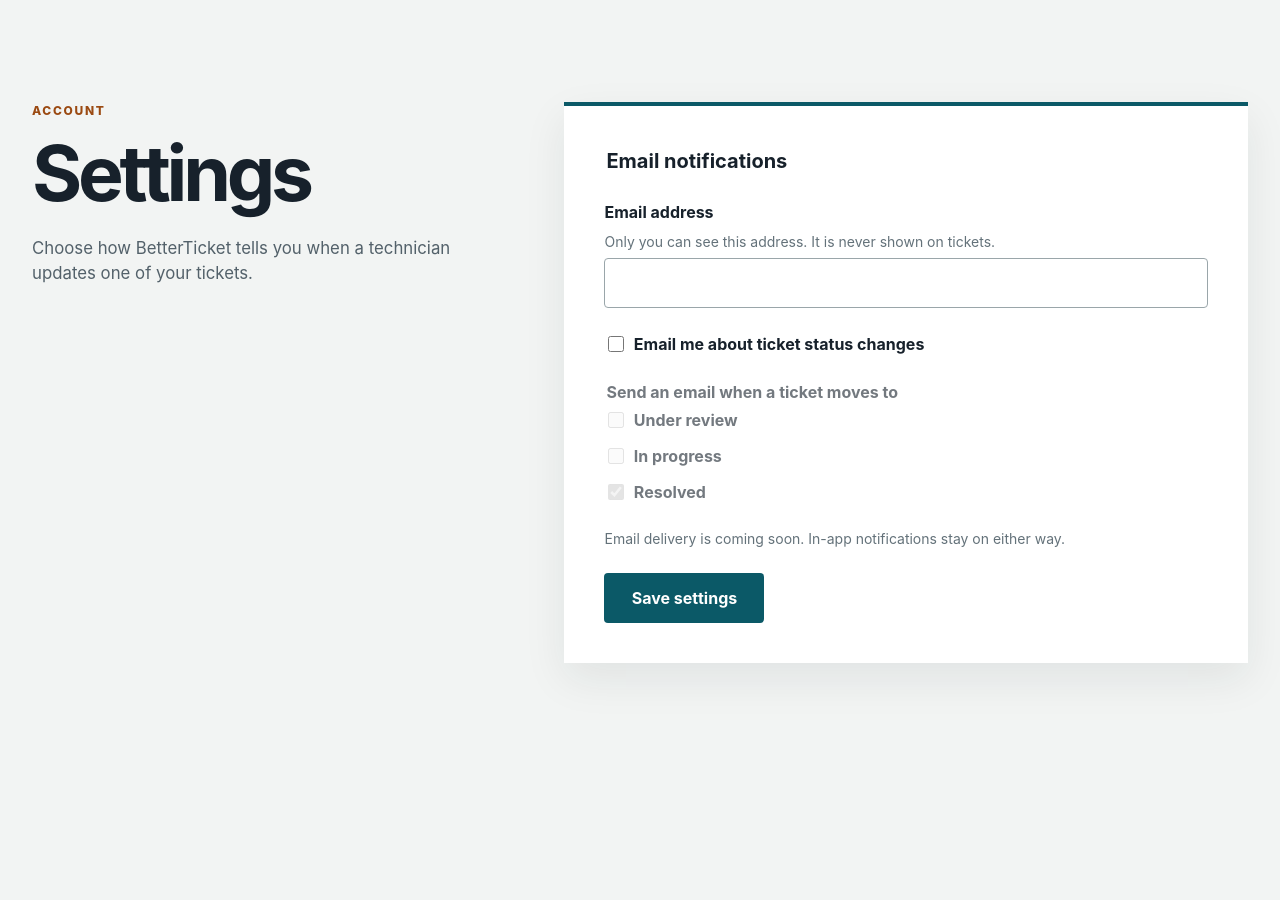
Test: SettingsPage › asks for at least one status before turning on email updates
Type "uma@example.com" into the field labelled "Email address" at (906, 283), box [604, 258, 1208, 308]
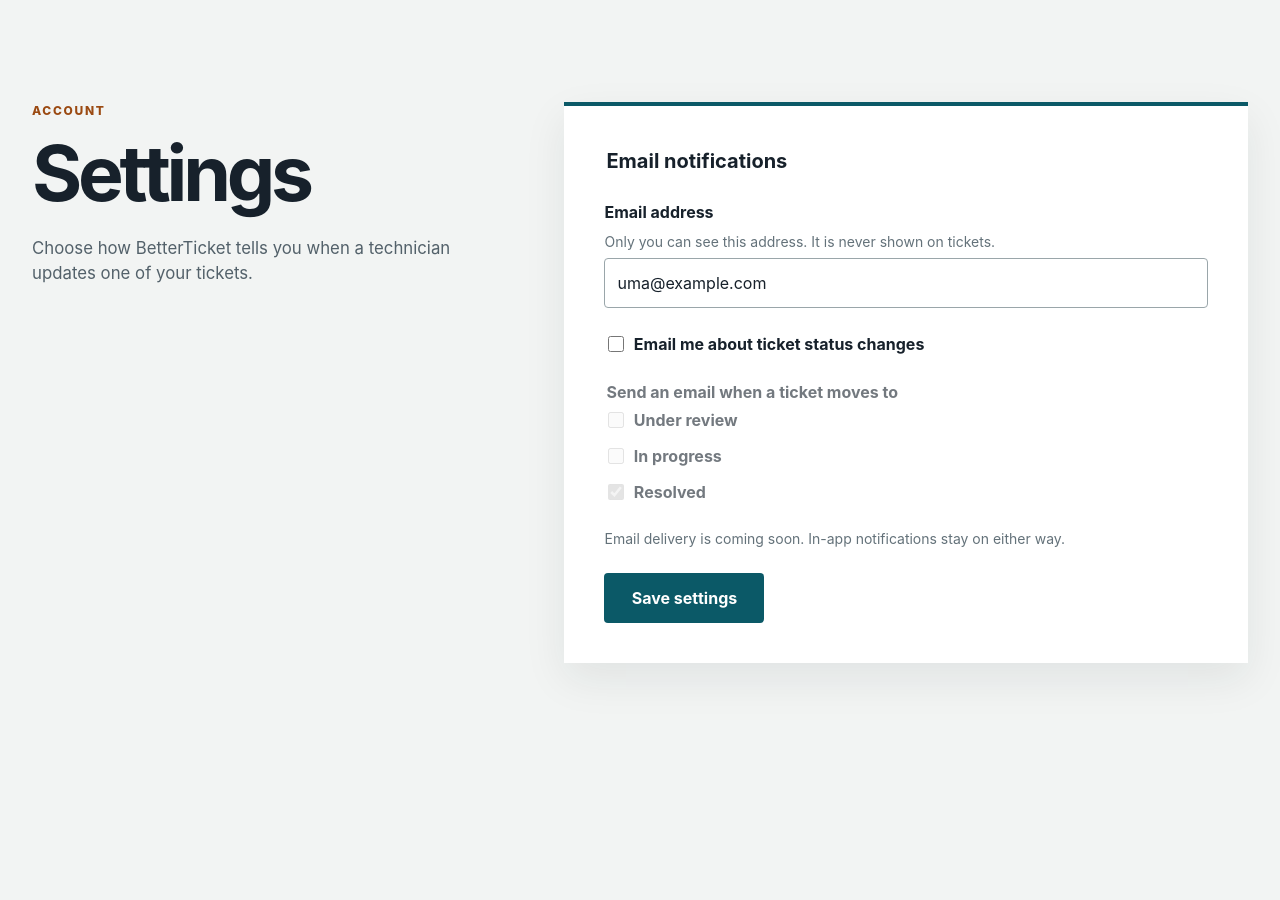
Click the checkbox labelled "Email me about ticket status changes" at (616, 344), box [608, 336, 624, 352]
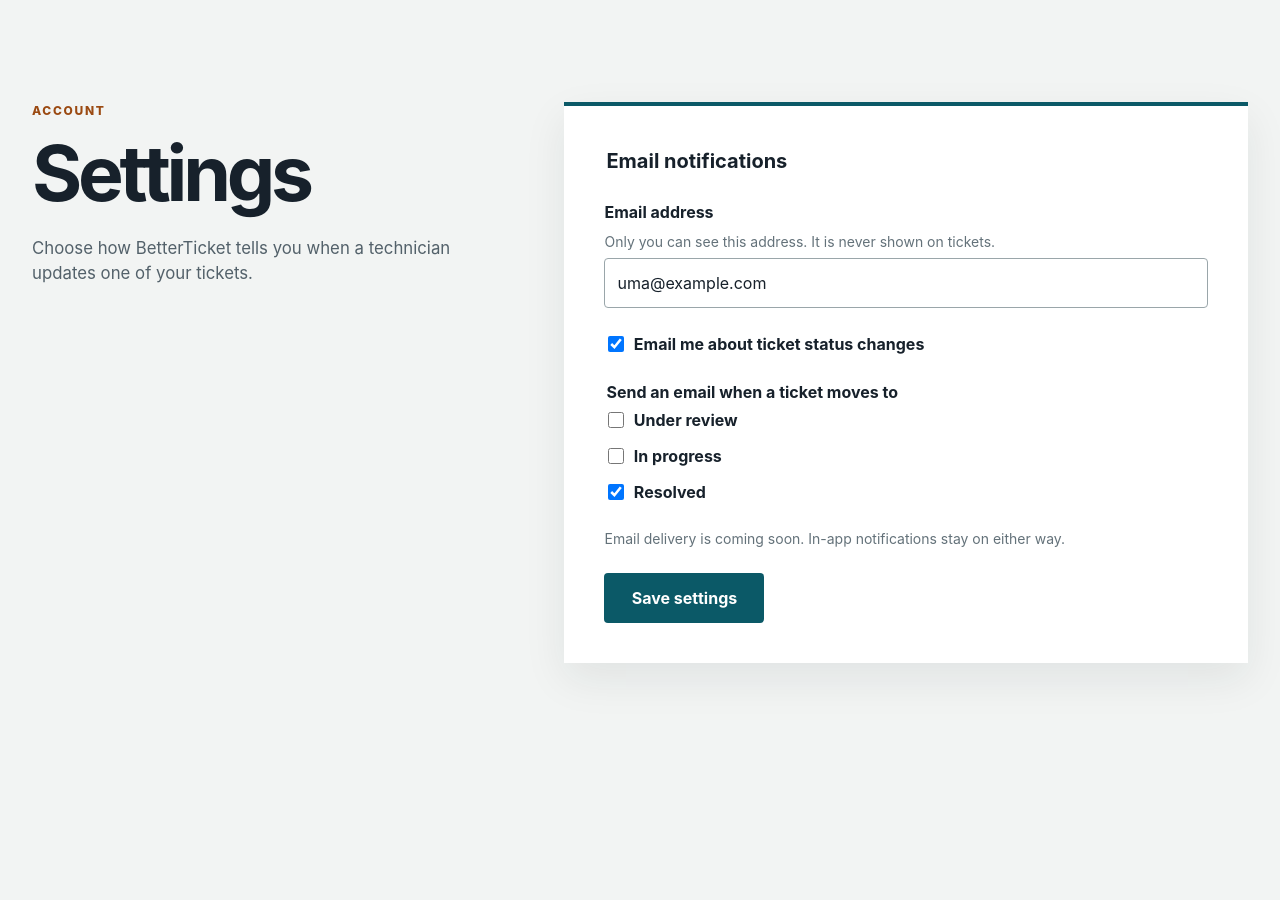
Click the checkbox labelled "Resolved" at (616, 492), box [608, 484, 624, 500]
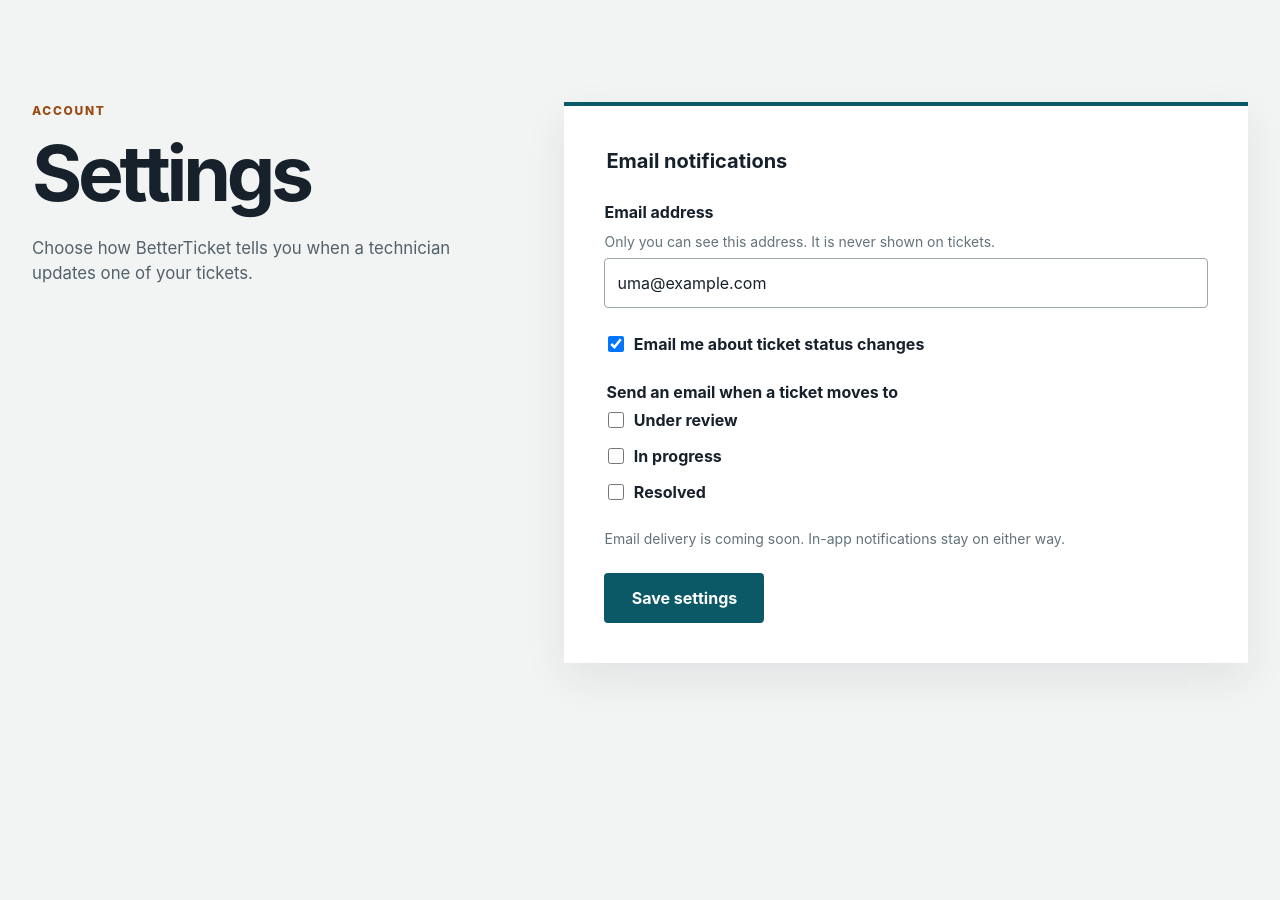
Click the button "Save settings" at (684, 598), box [604, 573, 764, 623]
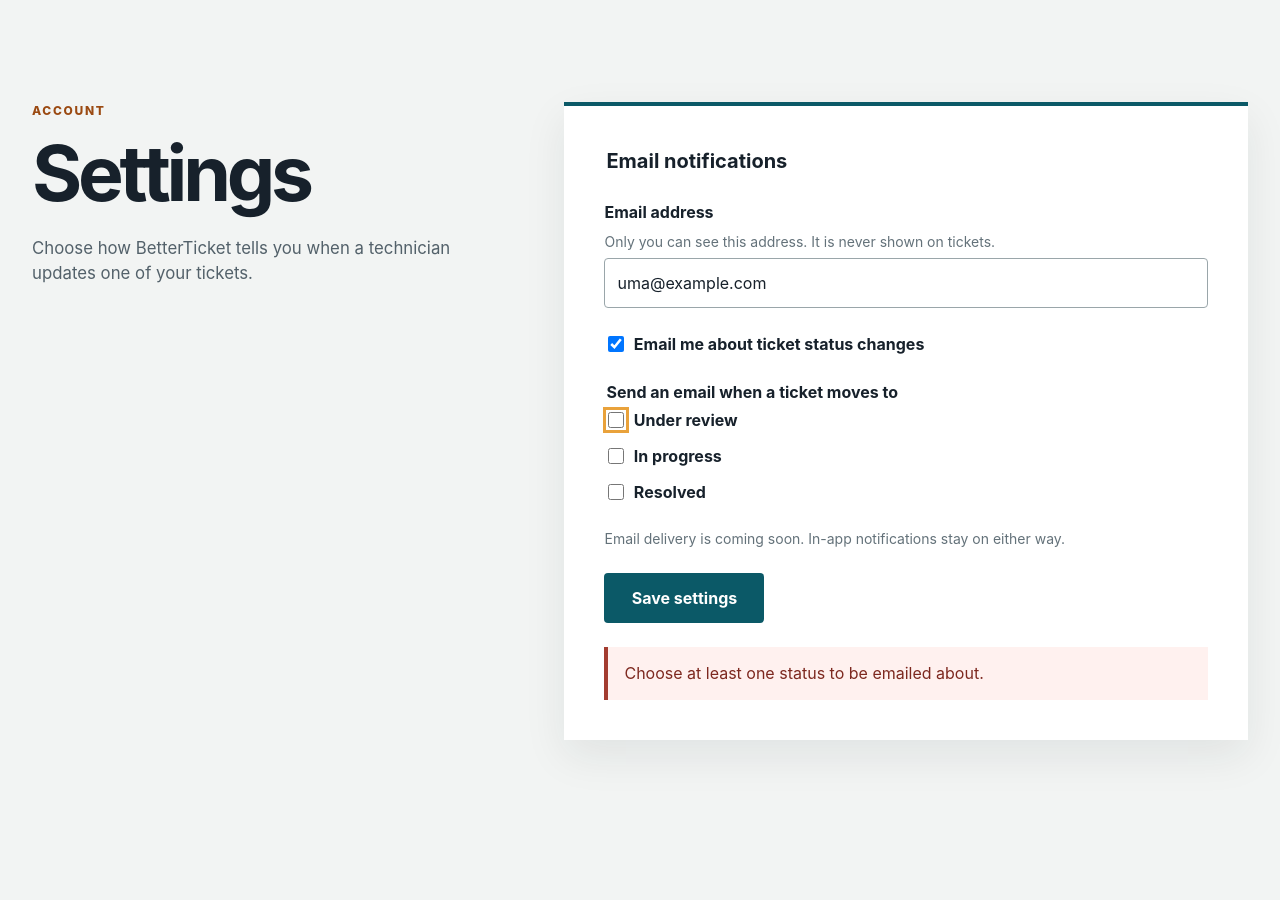
Result: the message shows "Choose at least one status" at [624, 663, 984, 683]
